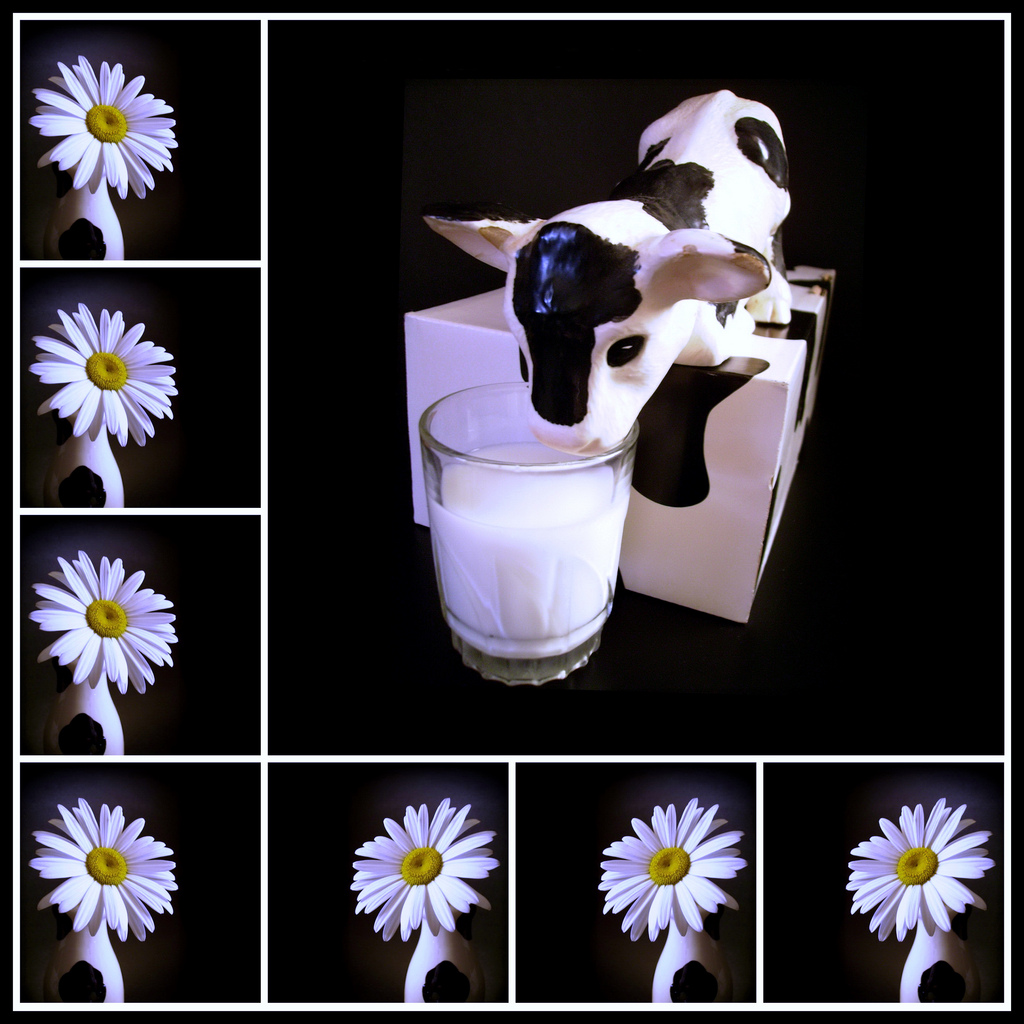glass of milk: (413, 388, 641, 702)
